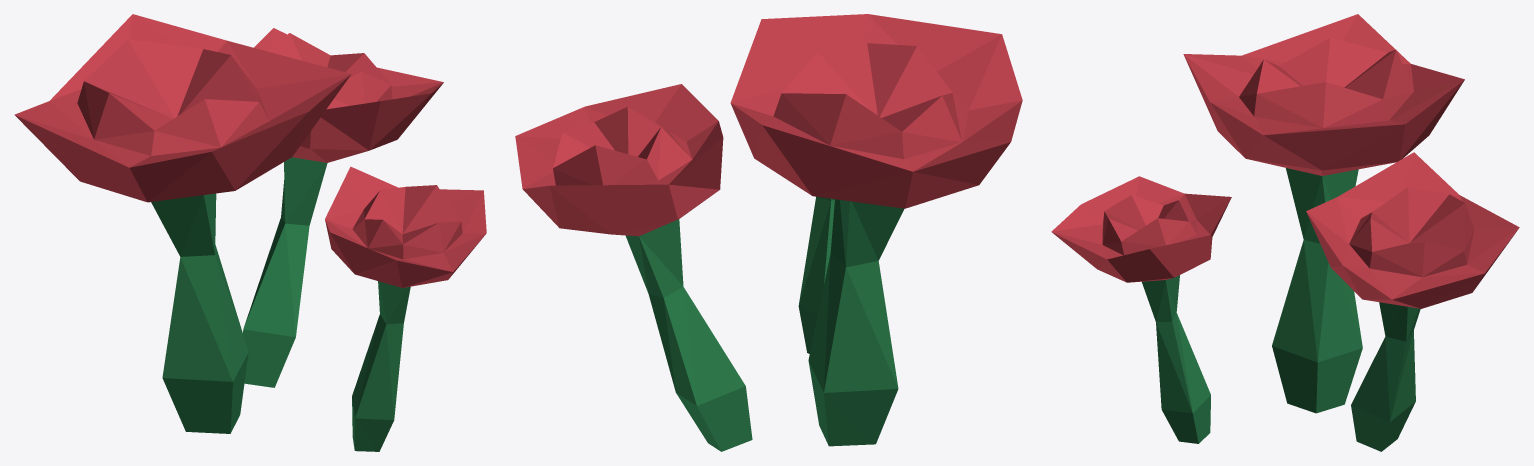
Rendered from SM_Env_Flower_05-optimized.glb.
3 renders of one model, left to right at view 1: azimuth 30°, elevation 25°; view 2: azimuth 150°, elevation 25°; view 3: azimuth 270°, elevation 25°, orthographic. The views are drawn at different scales.
Visible parts, largest first — view 1: SM_Env_Flower_05; view 2: SM_Env_Flower_05; view 3: SM_Env_Flower_05.
Boxes of the visible parts, x1=… form: SM_Env_Flower_05: x1=14, y1=14, x2=486, y2=451; SM_Env_Flower_05: x1=515, y1=14, x2=1022, y2=451; SM_Env_Flower_05: x1=1051, y1=14, x2=1519, y2=451.
Size of the model in its own units: 4.93 by 3.87 by 4.83.
1 material, 1 textured.
